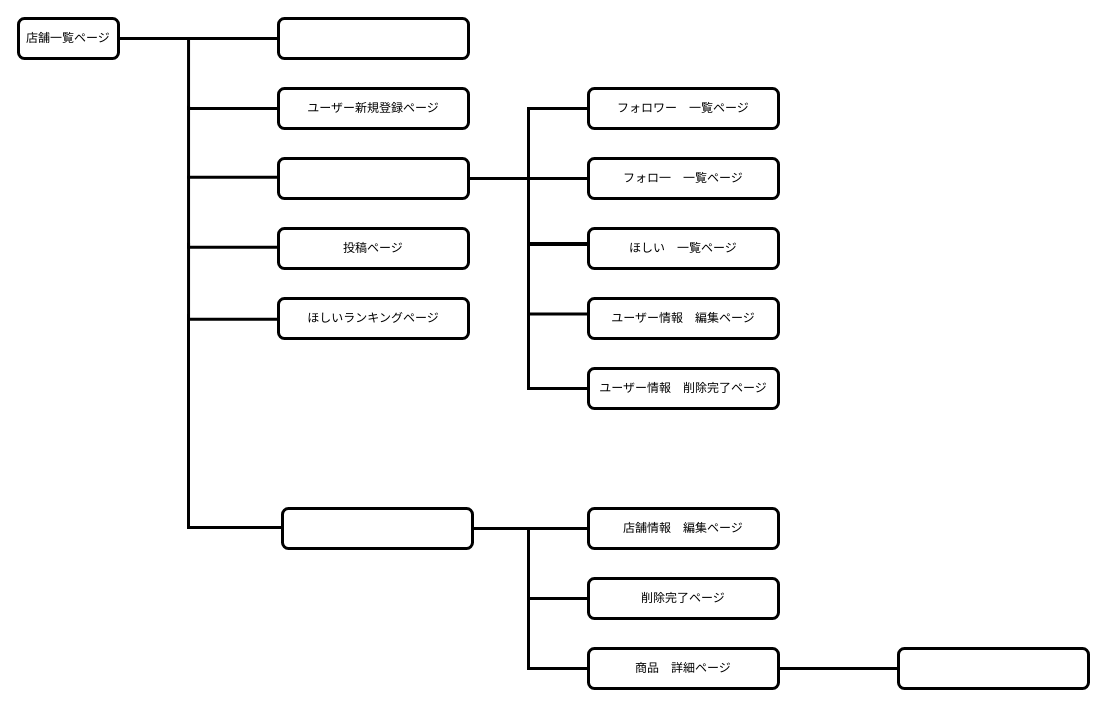
The diagram is 1107 pixels wide and 707 high, and some of its shapes have lost their labels. Here are the shapes that lost their labels. From the top down, the box of each, then its label:
(276, 16, 470, 60): ユーザーログインページ
(276, 156, 470, 200): ユーザー詳細ページ
(280, 506, 474, 550): 店舗 詳細ページ
(896, 646, 1090, 690): 商品情報 編集ページ
